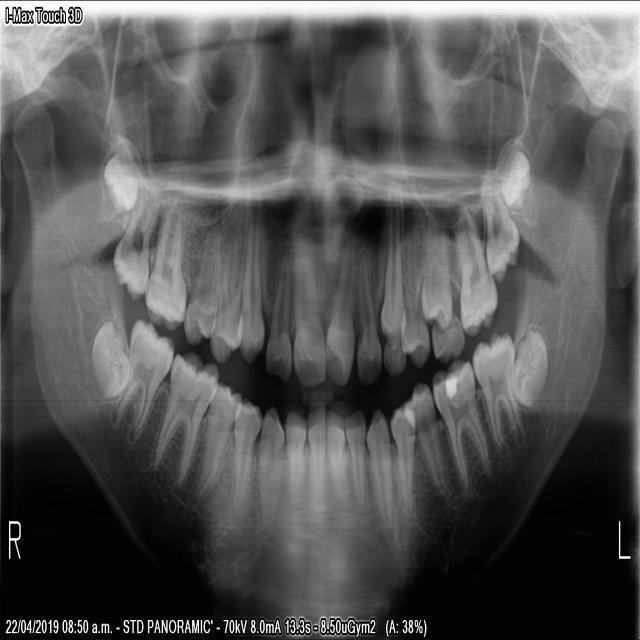LCD: (363, 401, 397, 531)
LCU: (377, 188, 408, 358)
LID: (341, 401, 368, 517), (322, 408, 352, 512)
LIU: (322, 232, 357, 394), (352, 239, 382, 391)
LMD: (427, 351, 494, 506), (469, 320, 525, 463), (509, 318, 552, 415)
LMU: (446, 186, 500, 340), (472, 162, 522, 284), (491, 144, 533, 210)
LPMD: (405, 375, 456, 513), (387, 396, 417, 526)
LPMU: (398, 182, 429, 370), (417, 203, 453, 332)
RCD: (252, 398, 286, 520)
RCU: (233, 206, 267, 367)
RID: (280, 405, 307, 516), (302, 402, 326, 510)
RIU: (287, 215, 329, 396), (259, 246, 291, 386)
RMD: (149, 344, 217, 496), (108, 311, 174, 445), (81, 312, 129, 405)
RMU: (107, 171, 164, 309), (138, 188, 187, 335), (97, 140, 142, 222)
RPMD: (190, 375, 245, 508), (229, 396, 263, 520)
RPMU: (206, 206, 244, 367), (180, 212, 220, 348)
